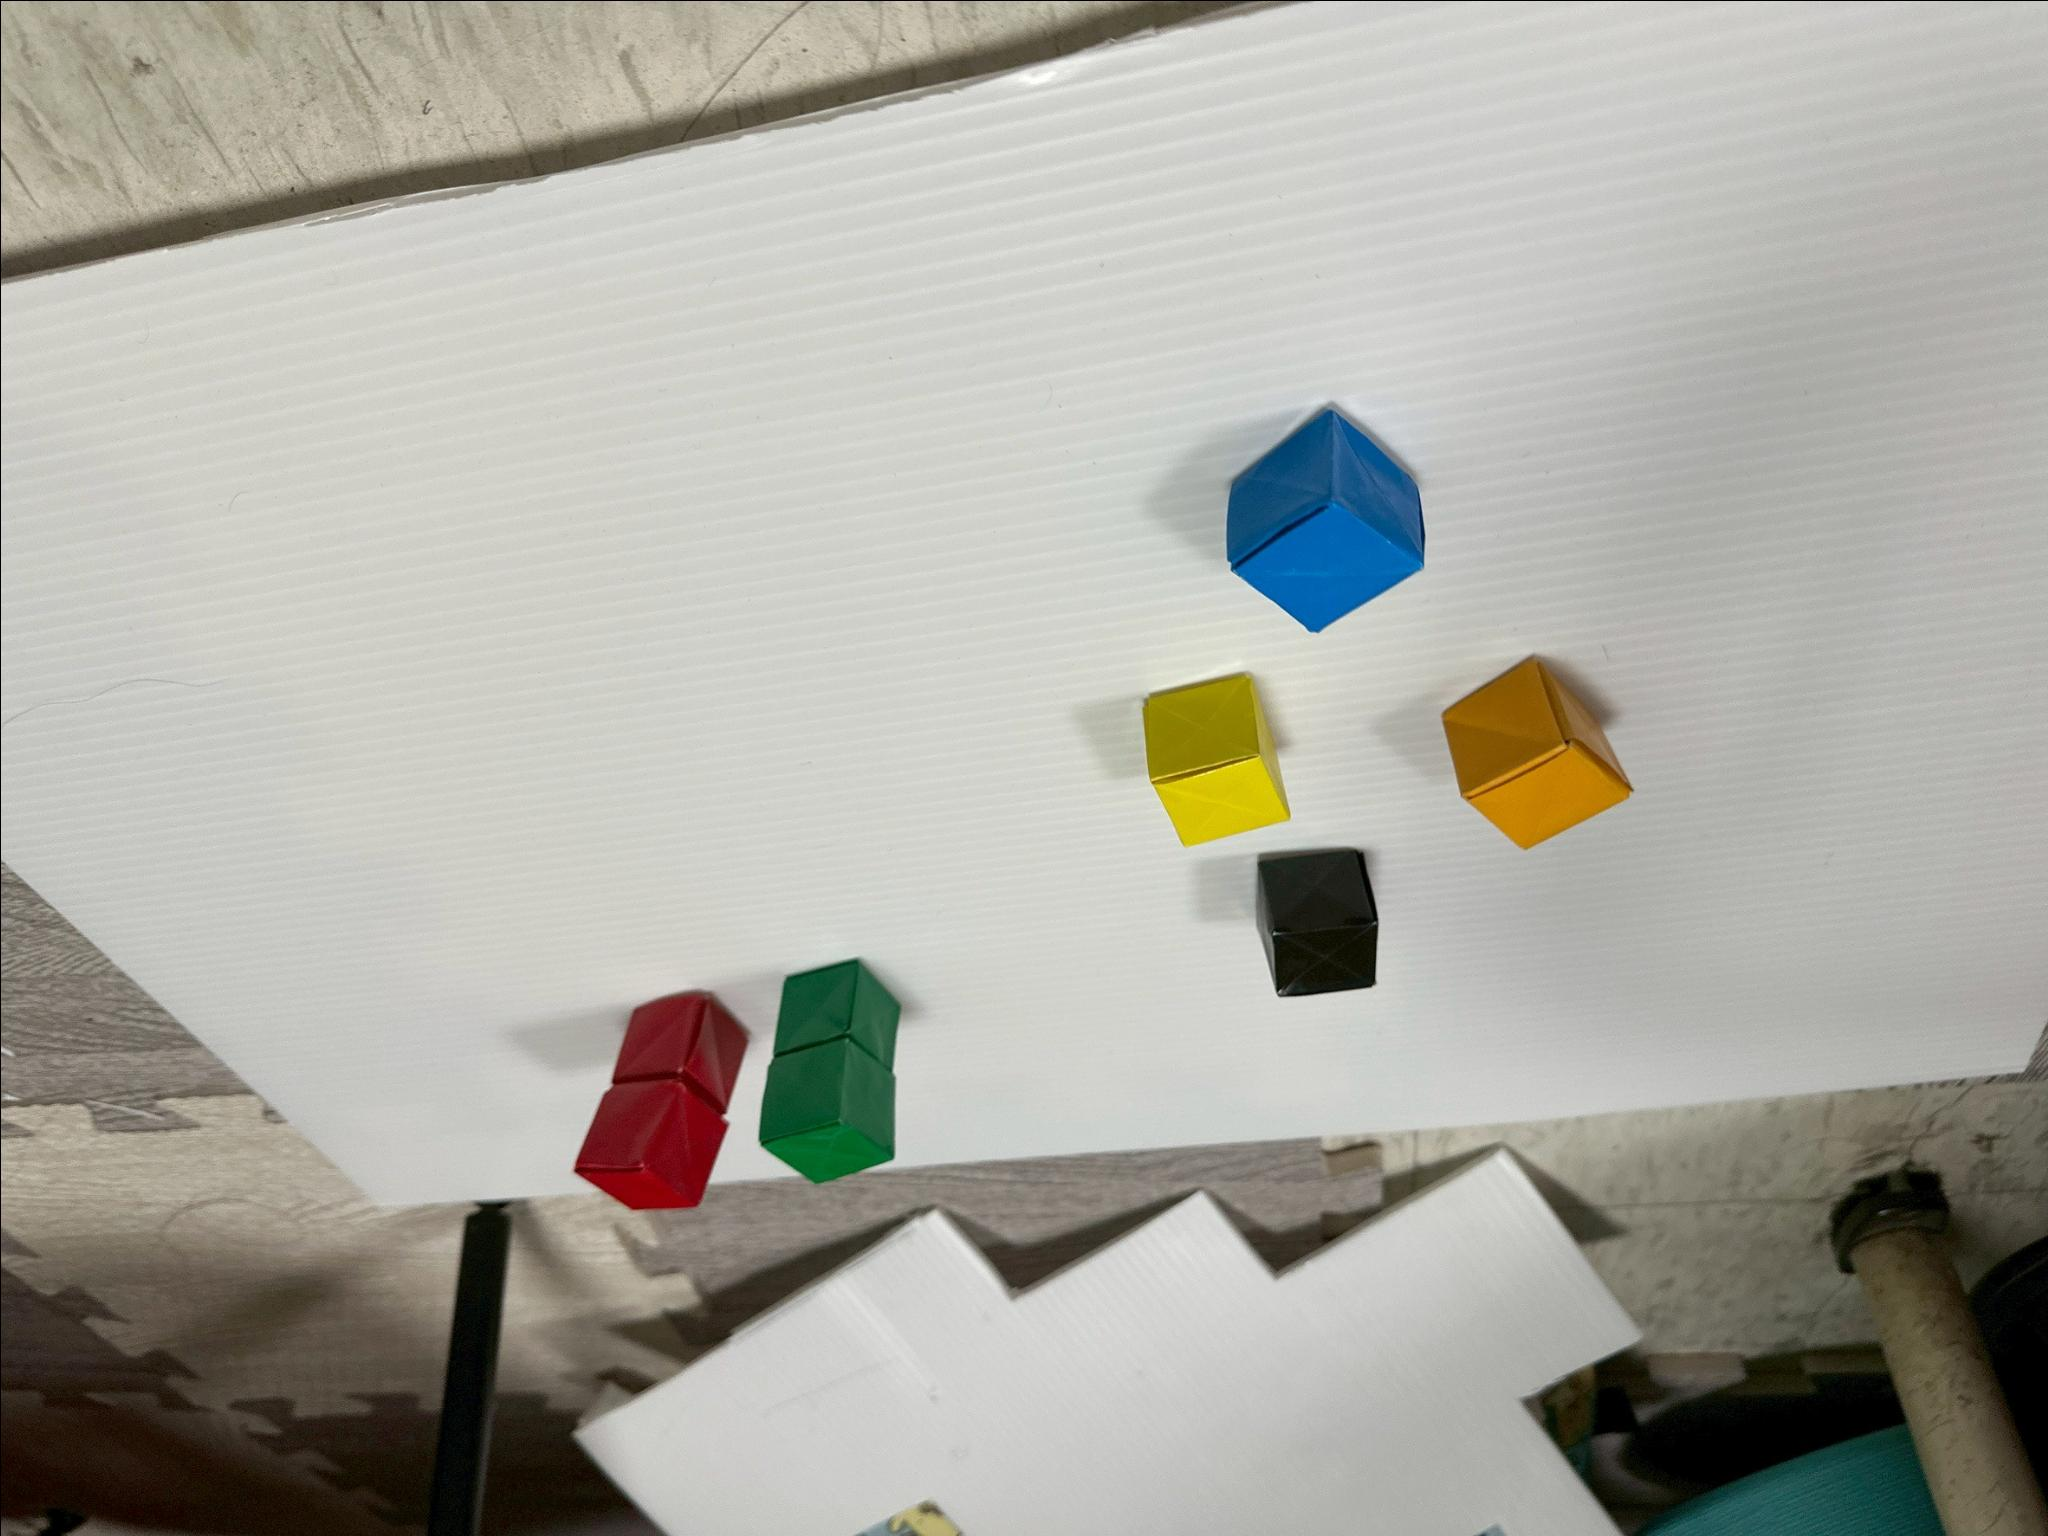base: (1226, 408, 1424, 629), (1442, 658, 1630, 849), (1143, 674, 1288, 845), (574, 1078, 726, 1207), (760, 1039, 893, 1179), (1256, 849, 1377, 995), (613, 994, 747, 1112), (776, 962, 898, 1073)
